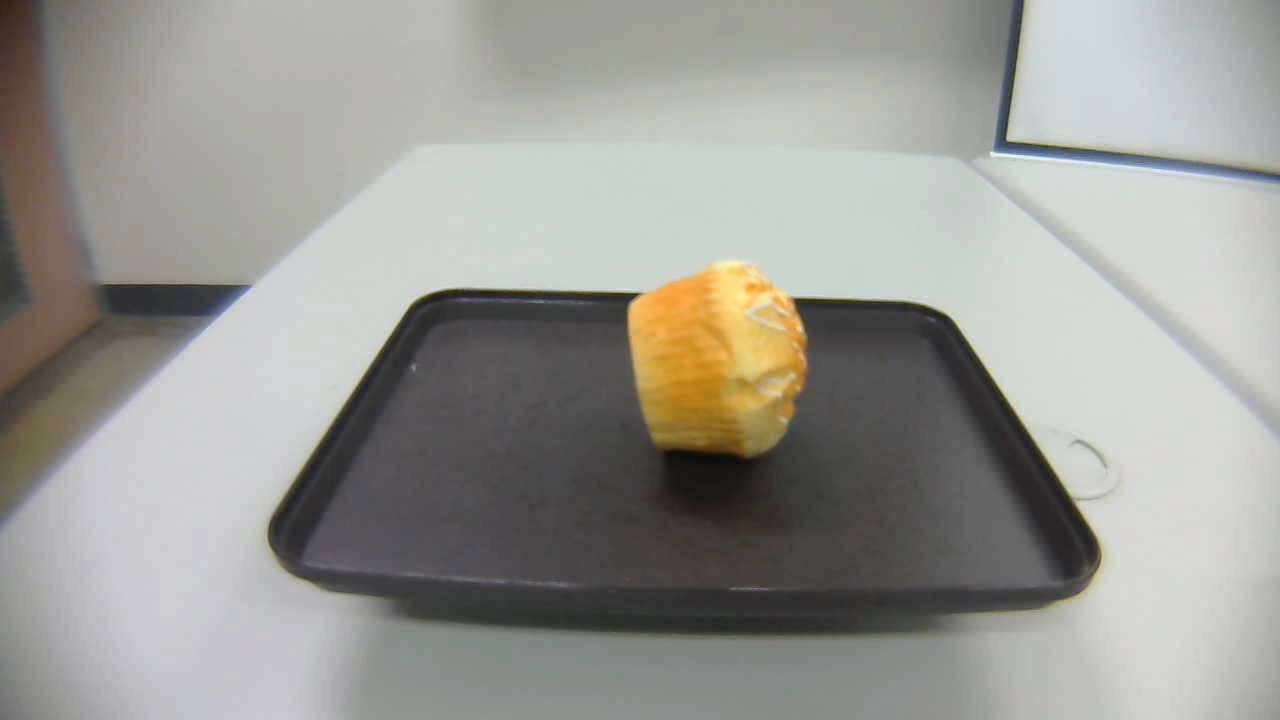cupcake: (625, 260, 812, 462)
